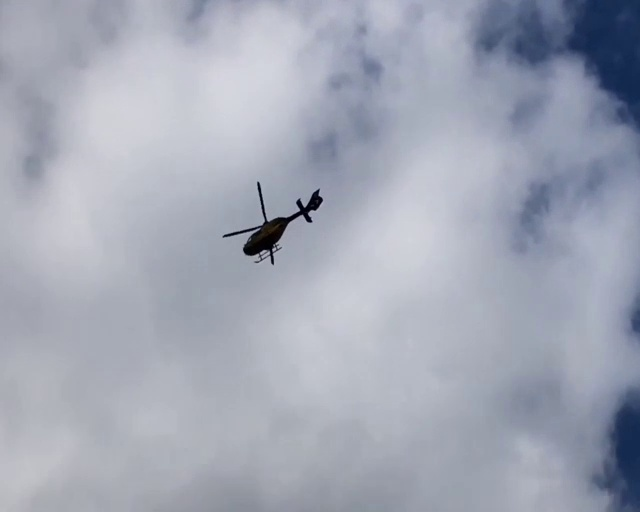HELICOPTER: (224, 180, 324, 265)
